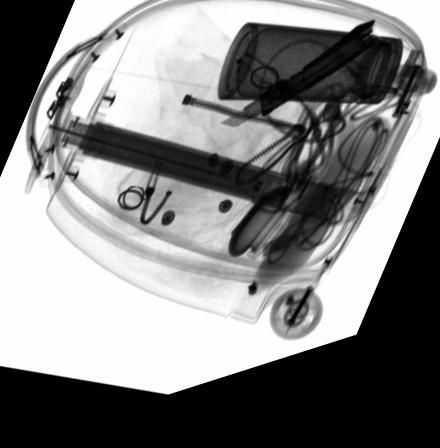Knife: (221, 41, 375, 142)
